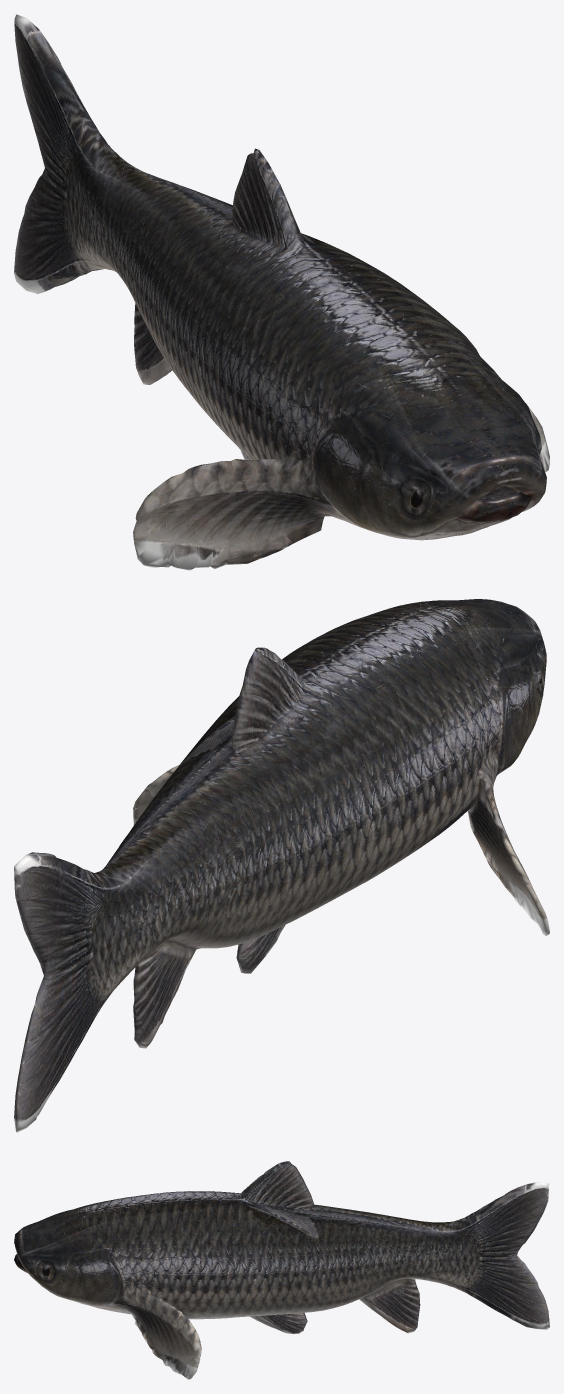
Rendered from fish_blackcarp.glb.
3 renders of one model, top to bottom at view 1: azimuth 30°, elevation 25°; view 2: azimuth 150°, elevation 25°; view 3: azimuth 270°, elevation 25°, orthographic. The views are drawn at different scales.
Parts seen in each view (by area): view 1: geometry_0; view 2: geometry_0; view 3: geometry_0.
Boxes of the visible parts, bbox=[...] form: geometry_0: bbox=[14, 14, 549, 570]; geometry_0: bbox=[14, 599, 549, 1132]; geometry_0: bbox=[14, 1161, 549, 1379].
Bounding box in the file's own units: 0.9534 × 0.7002 × 1.96.
1 material, 1 textured.
